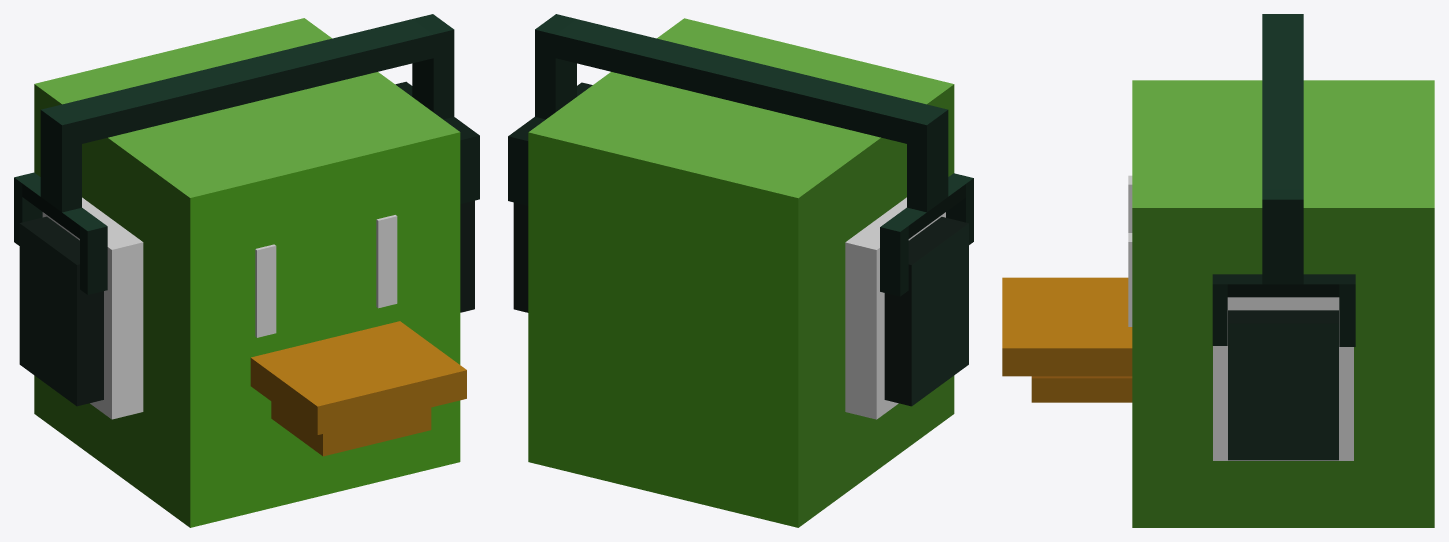
File: DuckHead.fbx
3 views of the same model, side by side, from view 1: azimuth 30°, elevation 25°; view 2: azimuth 150°, elevation 25°; view 3: azimuth 270°, elevation 25° (orthographic). The views are drawn at different scales.
Parts seen in each view (by area): view 1: Head, Headphones, Upper_Beak, Pads, Eyes, Lower_Beak; view 2: Head, Headphones, Pads; view 3: Head, Headphones, Upper_Beak, Pads, Lower_Beak, Eyes.
Part boxes in pixels (x1,y1,x2,y2): Head: (34,18,460,527); Headphones: (14,14,479,406); Upper_Beak: (250,321,466,434); Pads: (42,197,143,419); Eyes: (255,215,397,337); Lower_Beak: (271,401,431,456); Head: (528,18,954,527); Headphones: (508,14,973,406); Pads: (845,197,945,419); Head: (1132,80,1434,527); Headphones: (1212,14,1355,460); Upper_Beak: (1002,277,1132,376); Pads: (1213,297,1353,460); Lower_Beak: (1031,376,1132,402); Eyes: (1128,175,1132,326).
Size of the model in its own units: 4.42 by 3.91 by 4.29.
